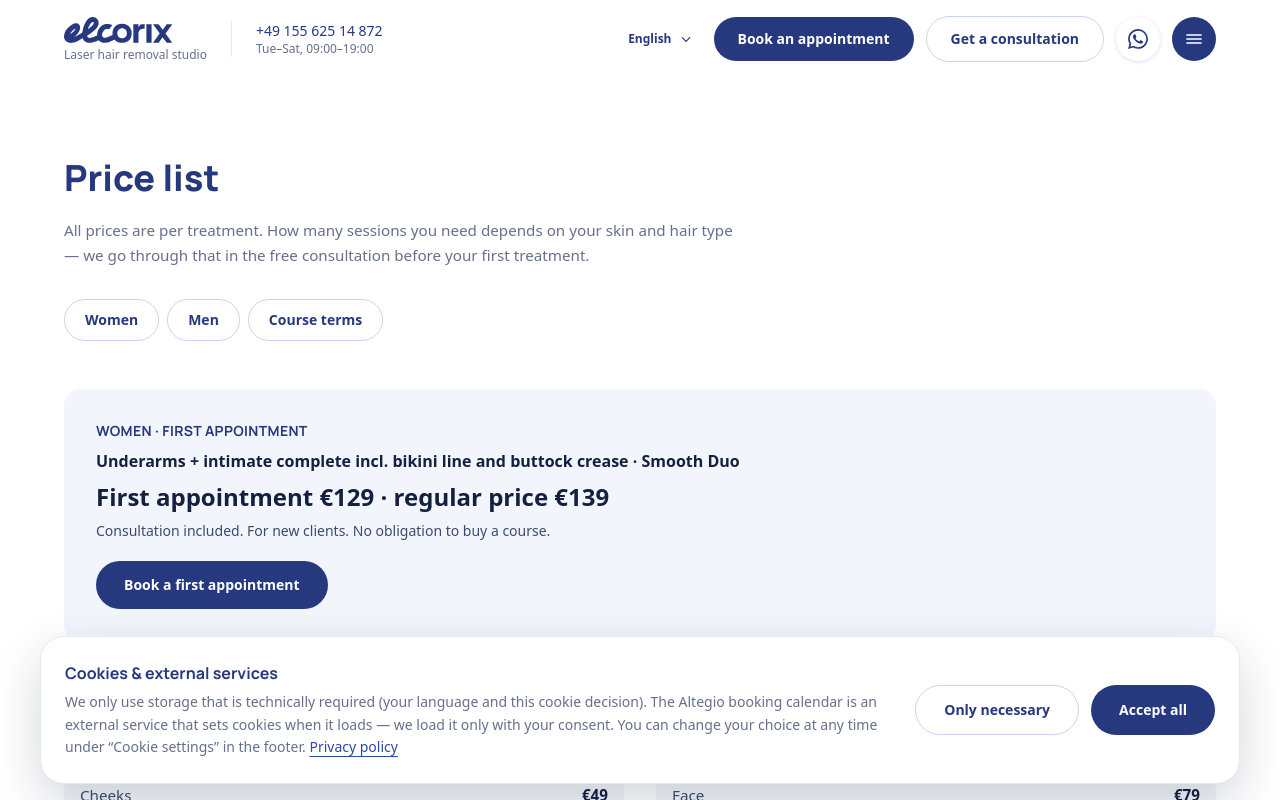
Test: language routing › translates the slug when the language segment changes
The width and height of the screenshot is (1280, 800).
What coordinates should you click on to do the following:
click the button with test id "language-switcher"
I would click on:
 (661, 39)
Its box is 620,23 -> 702,55.
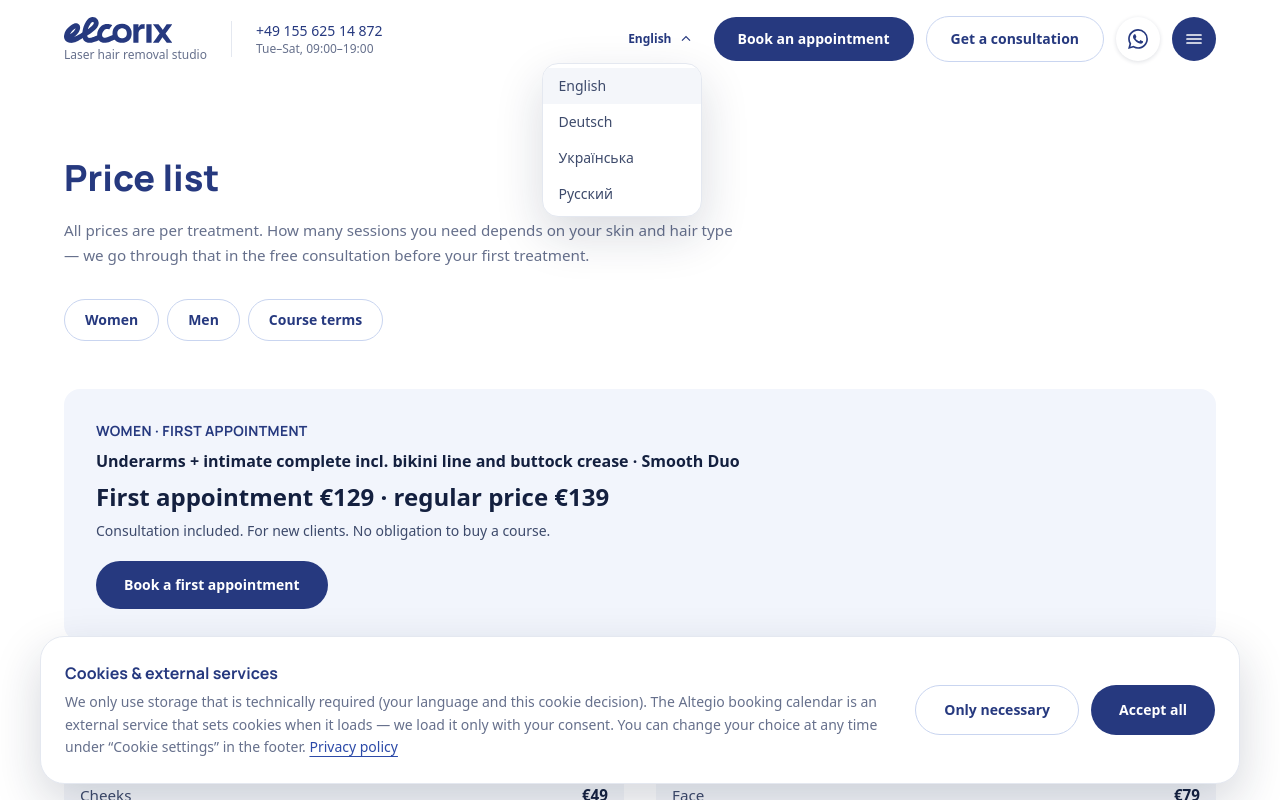
What coordinates should you click on to do the following:
click the option "Українська"
I would click on:
 (596, 158)
Its box is 558,148 -> 634,167.
(page scrolled)
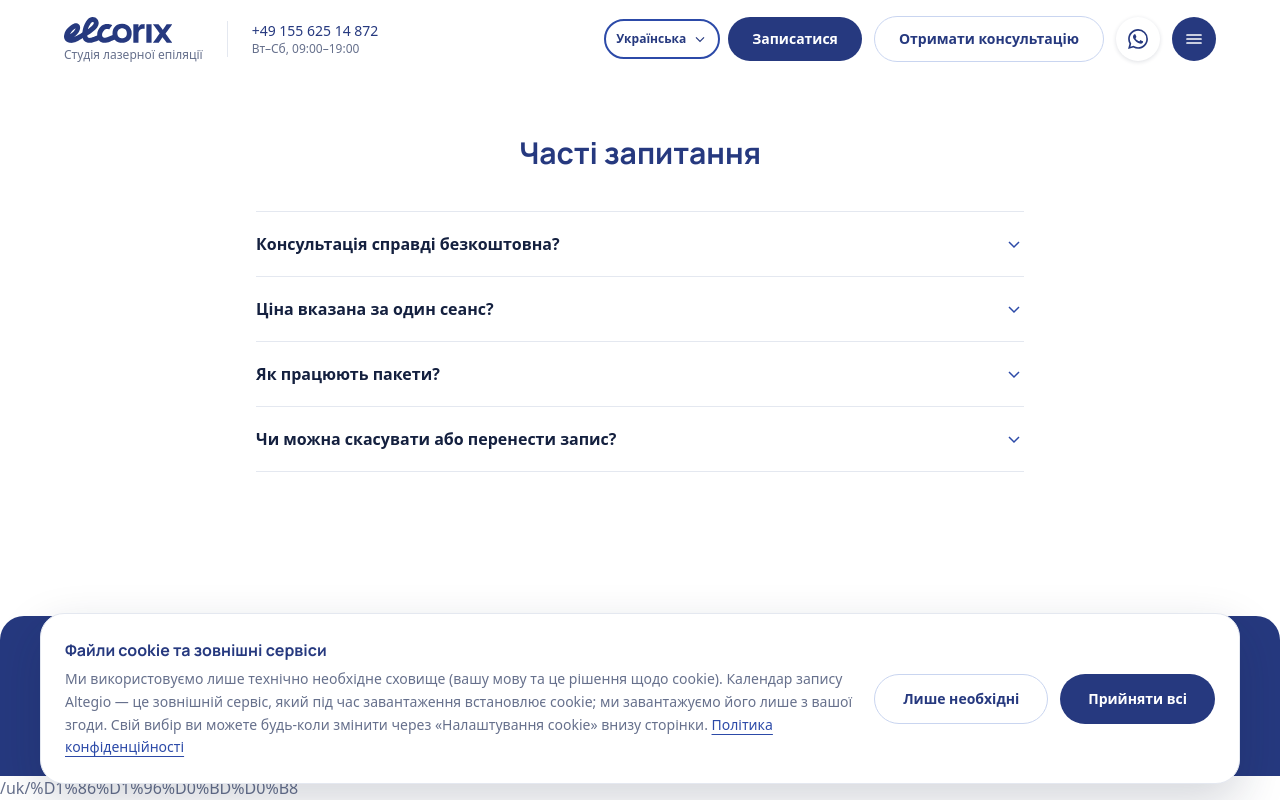
Now the text with test id "location" reads "/uk/%D1%86%D1%96%D0%BD%D0%B8", box 0,777 -> 298,799
